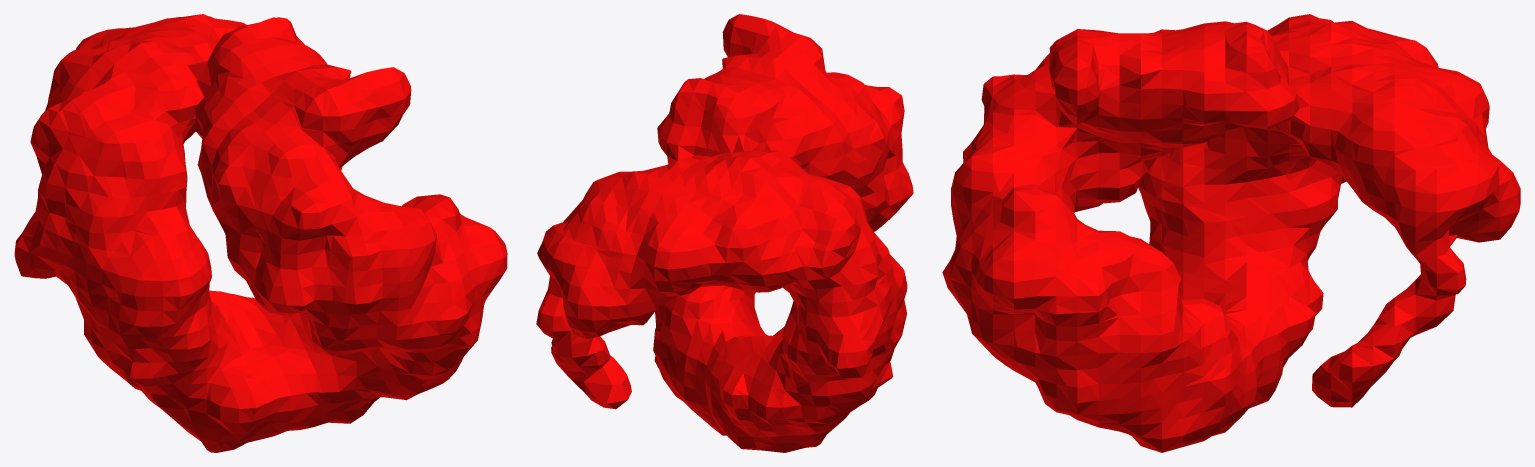
The model's file is mscM_coarse.dae.
3 views of the same model, side by side, from view 1: azimuth 30°, elevation 25°; view 2: azimuth 150°, elevation 25°; view 3: azimuth 270°, elevation 25° (orthographic). The views are drawn at different scales.
Visible parts, largest first — view 1: mscM; view 2: mscM; view 3: mscM.
Boxes of the visible parts, bbox=[...] form: mscM: bbox=[14, 14, 507, 452]; mscM: bbox=[536, 14, 913, 452]; mscM: bbox=[942, 14, 1520, 452].
Size of the model in its own units: 87.63 by 96.45 by 123.
